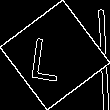L_N: (36, 28, 74, 82)
